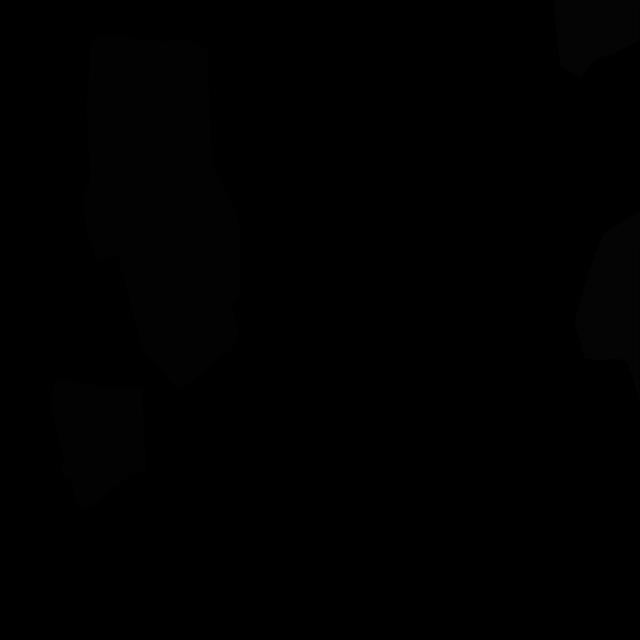cardboard: (114, 103, 240, 387), (86, 36, 212, 189), (52, 379, 146, 509), (82, 178, 118, 260)
soft_plastic: (574, 211, 640, 400), (553, 0, 640, 77)
